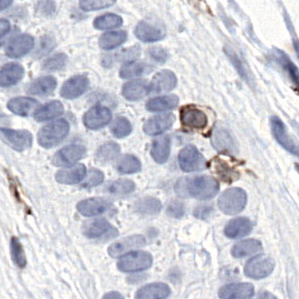Lymphocyte: (178, 100, 215, 140)
